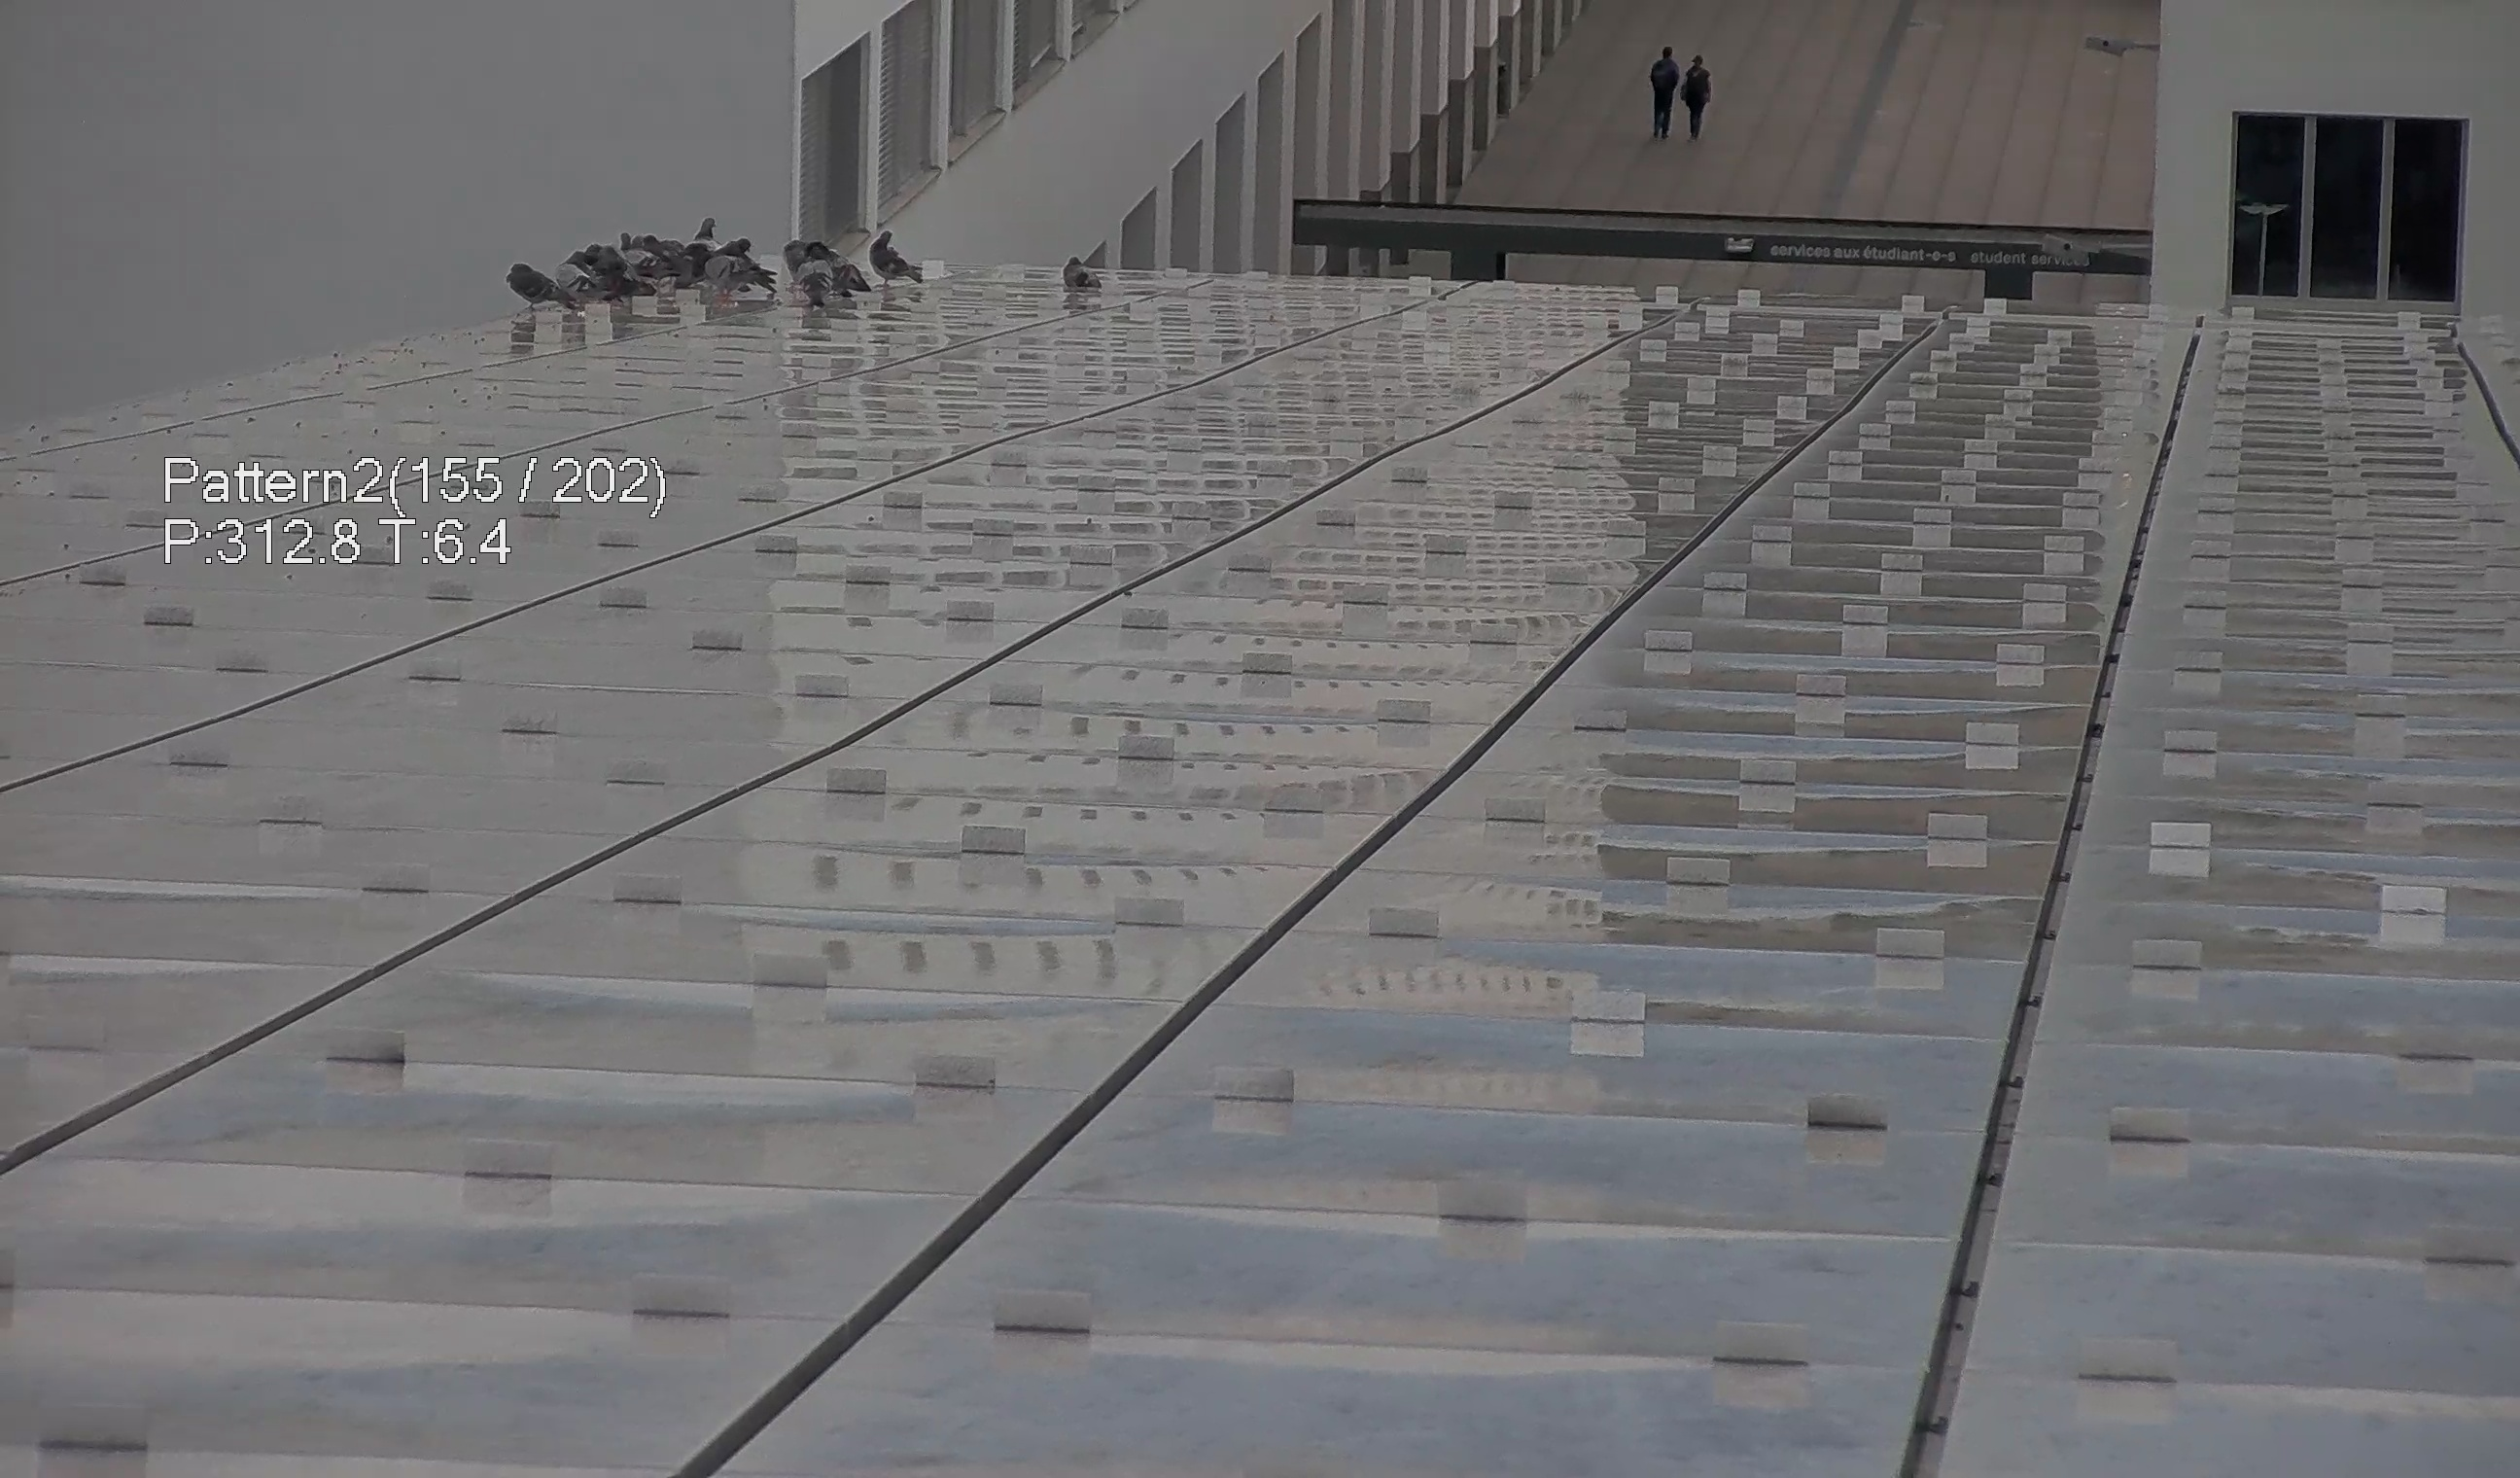Pigeon: (863, 220, 932, 294), (498, 257, 582, 311), (695, 250, 777, 299), (554, 253, 630, 304), (823, 248, 874, 308), (791, 252, 835, 308), (1057, 253, 1106, 294), (686, 211, 721, 253), (717, 232, 751, 262)
